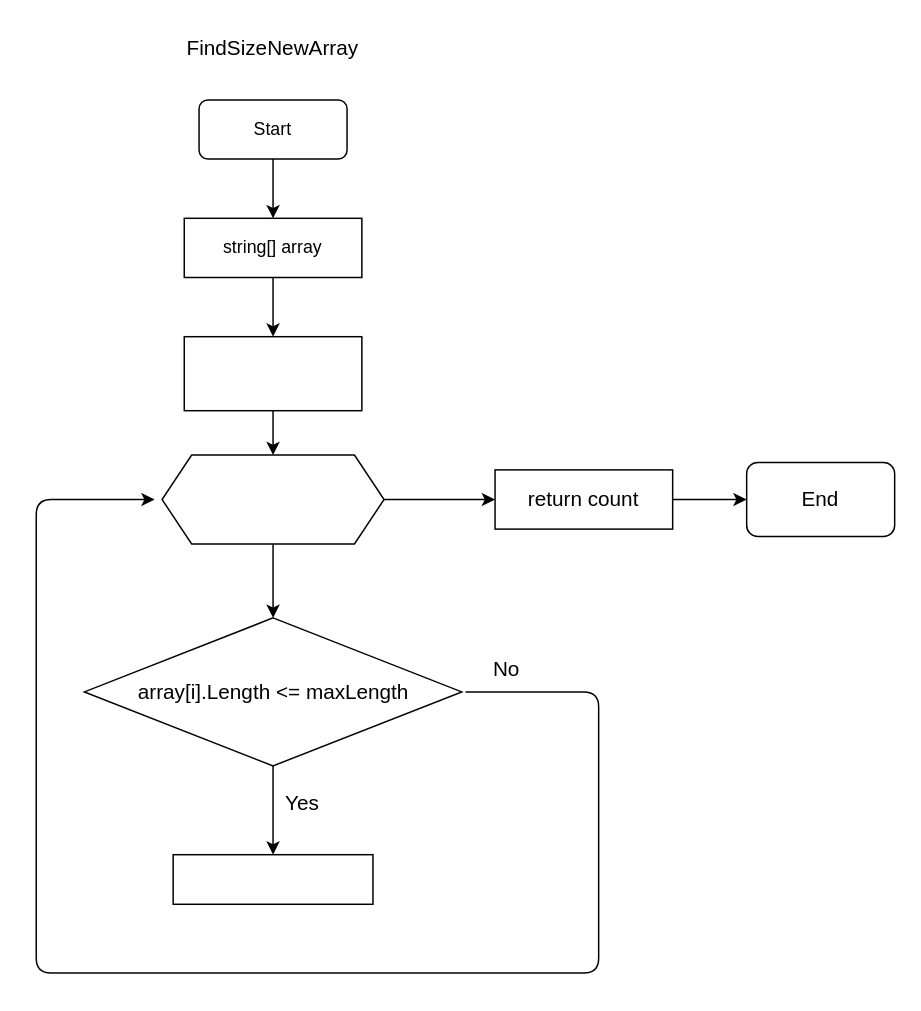
This 921x1011 diagram has some shape labels left out. Here are the shapes that lost their labels. From the top down, the centre of each, then its label:
the point at 272,373: int count = 0 int maxLength = 3
the point at 272,499: i=0; array.Lenght-1, 1
the point at 272,878: count++
